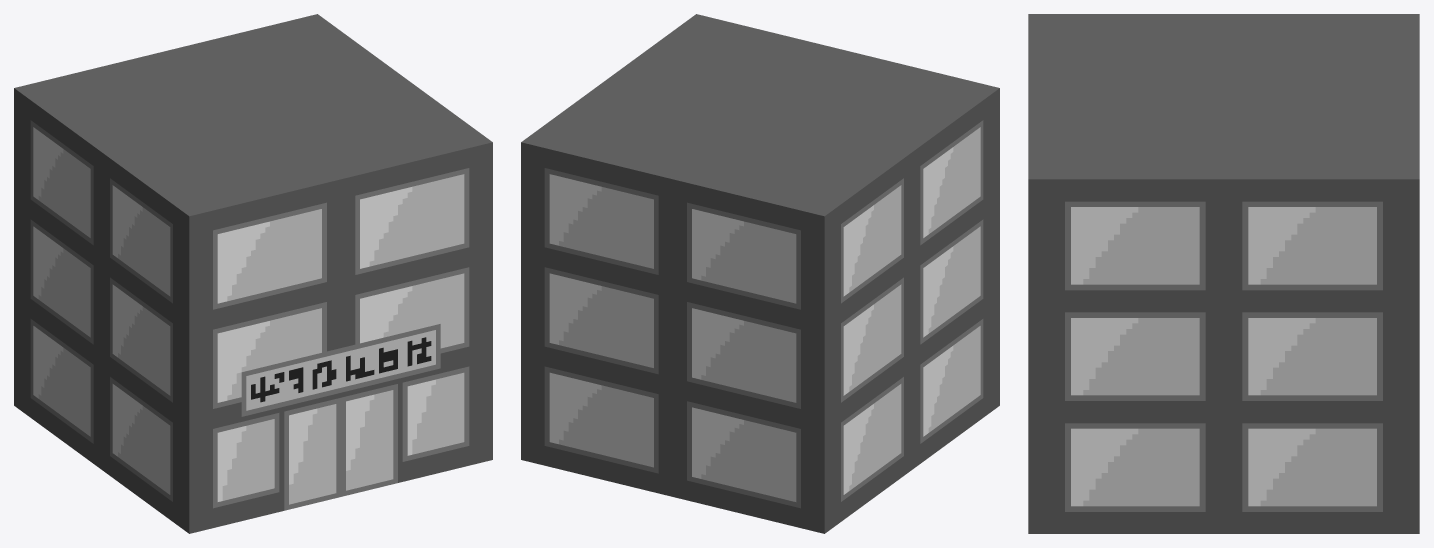
Rendered from Building_B.obj.
The picture shows the model from 3 angles, left to right: view 1: azimuth 30°, elevation 25°; view 2: azimuth 150°, elevation 25°; view 3: azimuth 270°, elevation 25°; orthographic projection. The views are drawn at different scales.
Size of the model in its own units: 6.4 by 6.4 by 6.4.
1 material, 1 textured.
